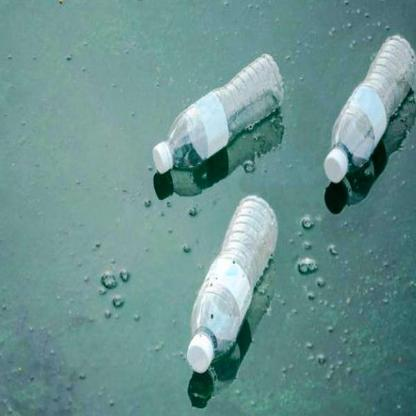plastic bottle: (186, 195, 278, 373), (151, 54, 285, 175), (324, 34, 416, 182)
